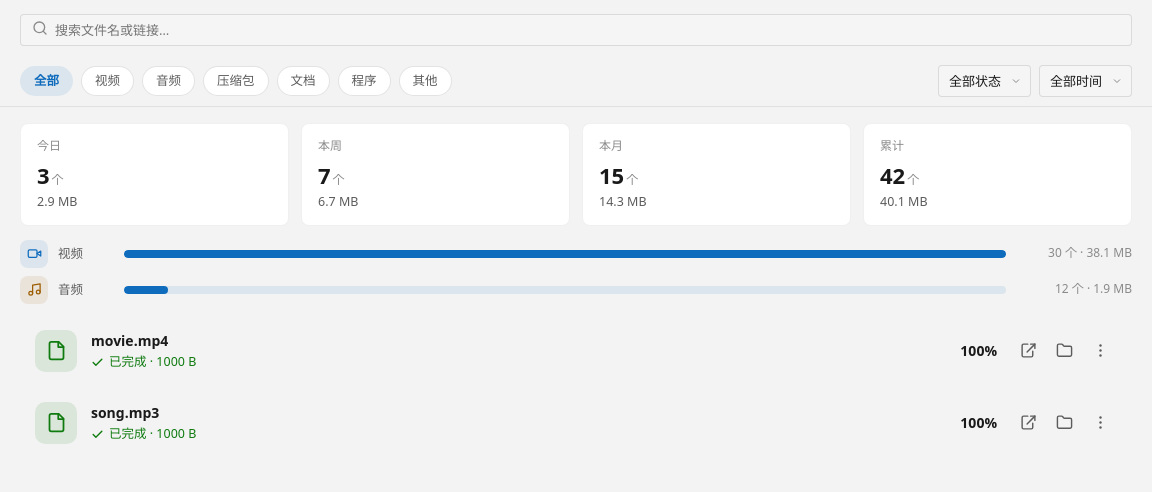
自定义时间起 > 止 → 内联提示(B5);纠正为正常序后提示消失
Check: the text "movie.mp4" is shown, box [91,331,168,350]
Select "自定义" in the dropdown named "时间筛选" at point(1086, 81), box [1039,65,1132,97]
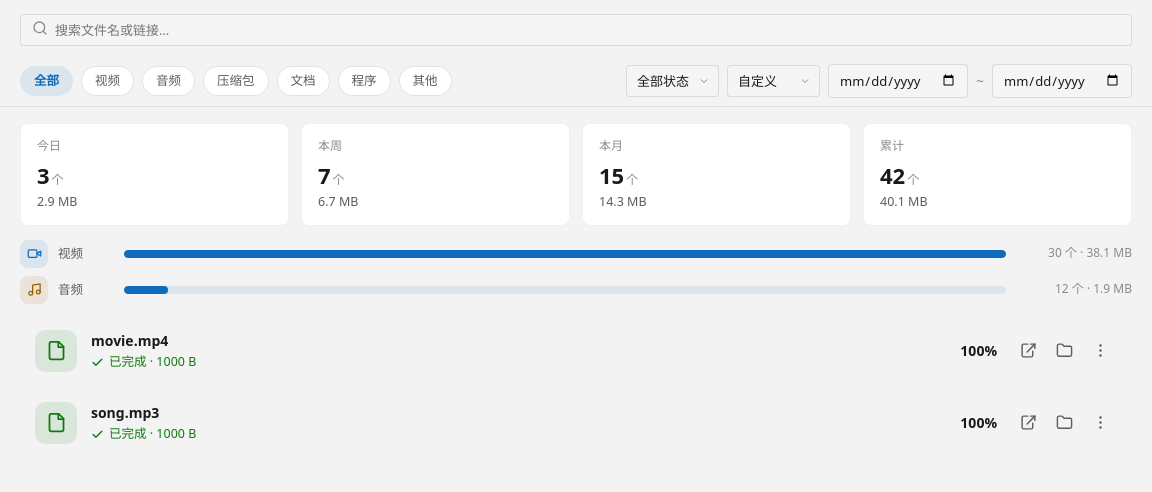
Type "2026-07-10" into the date field named "起始日期".
click(898, 81); type("2026-07-10")  # box [828,64,968,98]
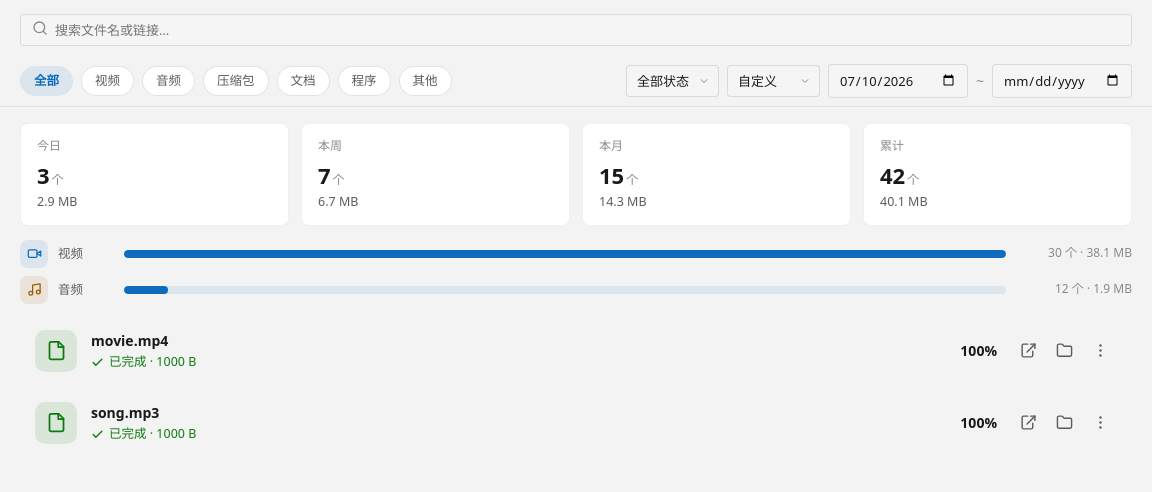
Type "2026-07-01" into the date field named "结束日期".
click(1062, 81); type("2026-07-01")  # box [992,64,1132,98]
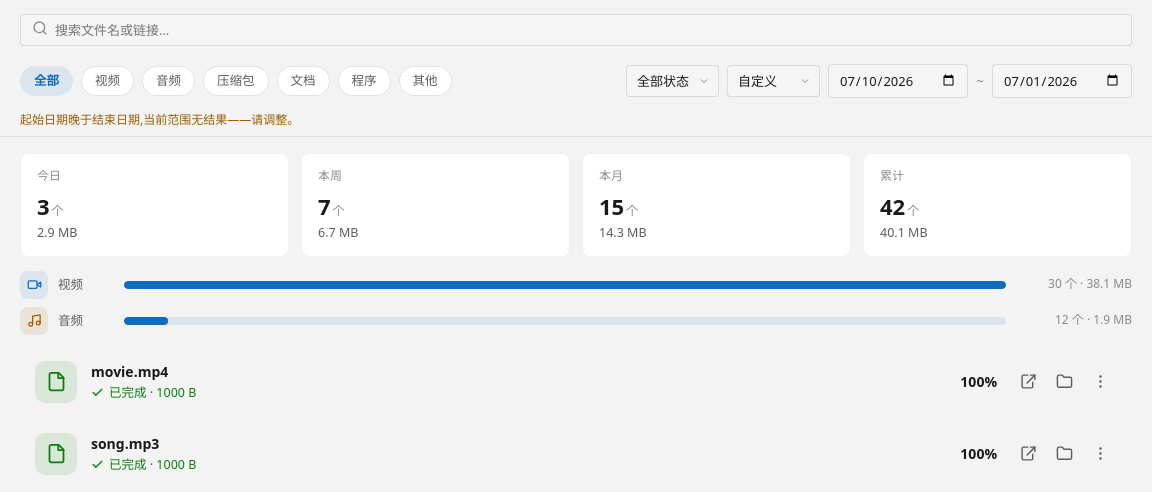
Check: the text "起始日期晚于结束日期,当前范围无结果——请调整。" is shown, box [20,111,299,128]
纠正结束日期为更晚 → 提示消失
Type "2026-07-20" into the date field named "结束日期".
click(1062, 81); type("2026-07-20")  # box [992,64,1132,98]
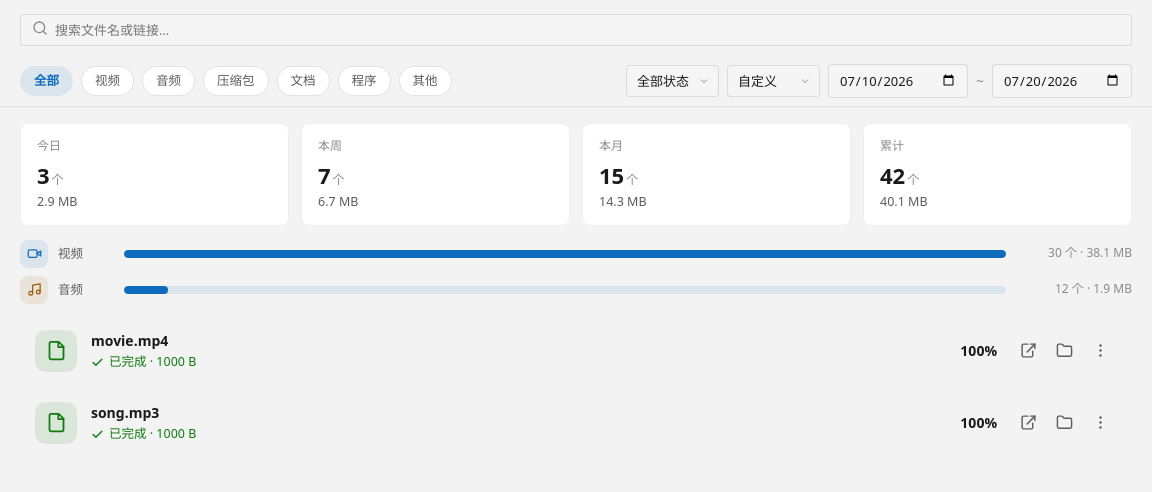
Check: the text "起始日期晚于结束" is gone
